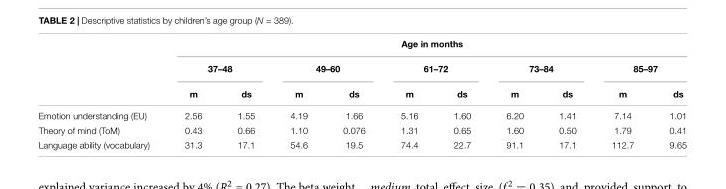table: (37, 37, 686, 149)
table column: (37, 37, 166, 149), (324, 37, 382, 149), (593, 37, 650, 149), (166, 37, 219, 149), (271, 37, 324, 149), (382, 37, 435, 149), (487, 37, 540, 149), (540, 37, 593, 149), (219, 37, 271, 149), (435, 37, 487, 149), (650, 37, 686, 149)
table column header: (37, 37, 686, 104)
table row: (37, 55, 686, 80), (37, 80, 686, 104), (37, 37, 686, 55), (37, 104, 686, 122), (37, 122, 686, 136), (37, 136, 686, 149)
table spanning cell: (166, 37, 686, 55), (271, 55, 382, 80), (487, 55, 593, 80), (166, 55, 271, 80), (382, 55, 487, 80), (593, 55, 686, 80)
